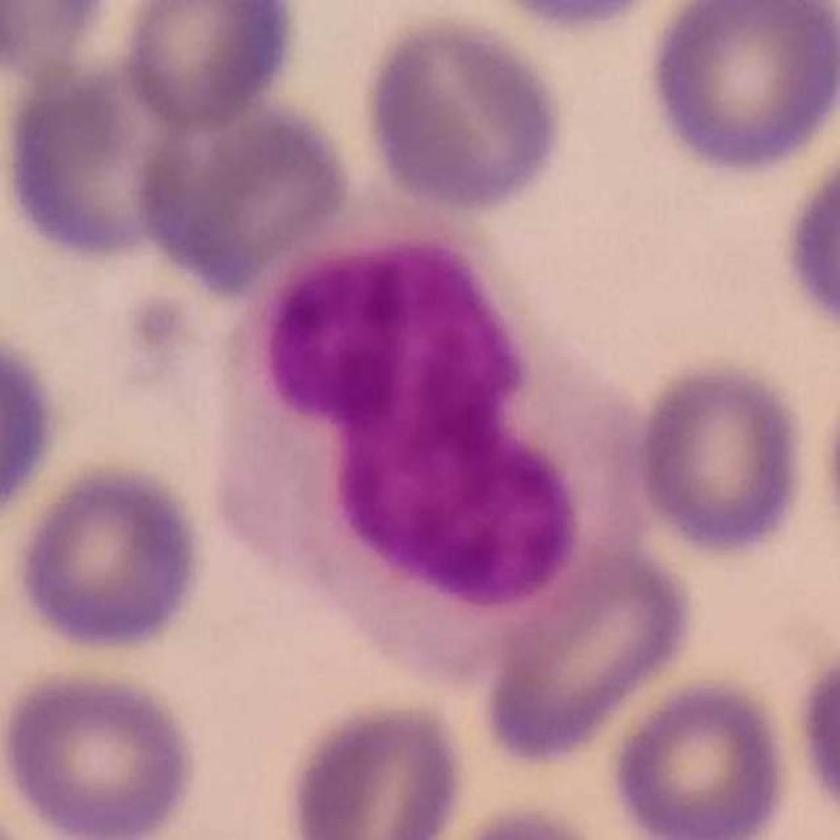monocyte: (212, 190, 660, 698)
